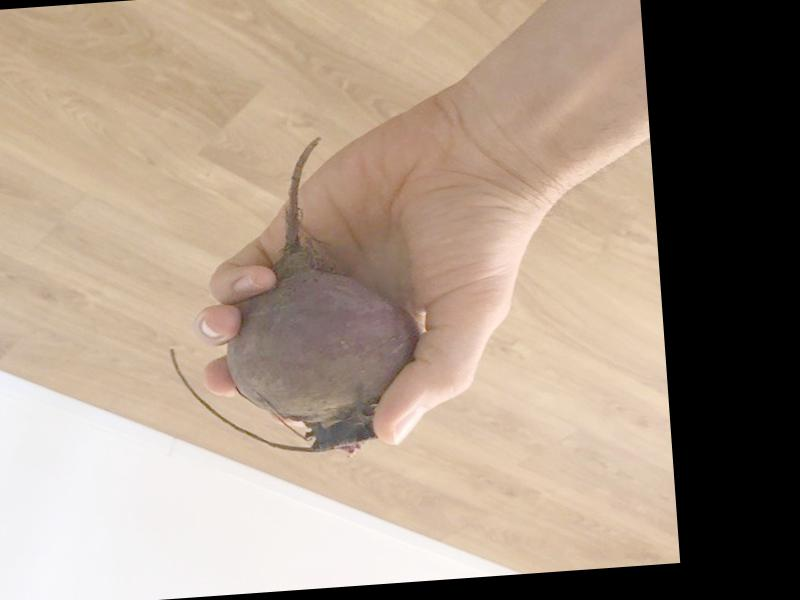Beet: (153, 133, 426, 468)
